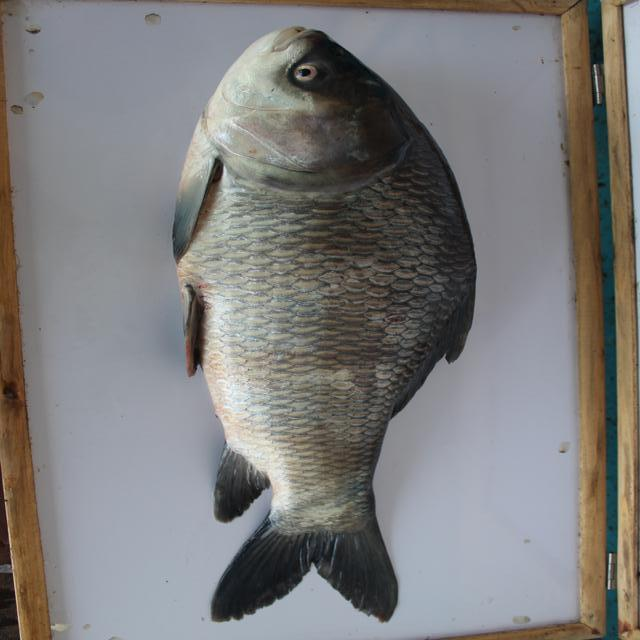Catla: (169, 16, 489, 624)
